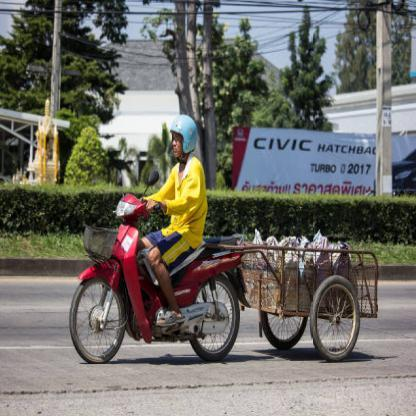Motorcycle: (67, 177, 240, 365)
